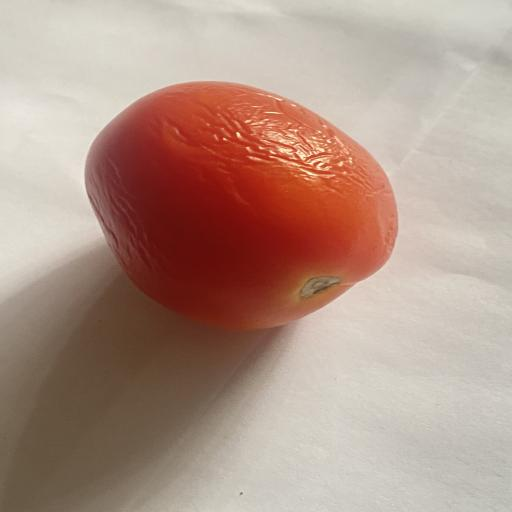spoiled: (85, 81, 397, 329)
